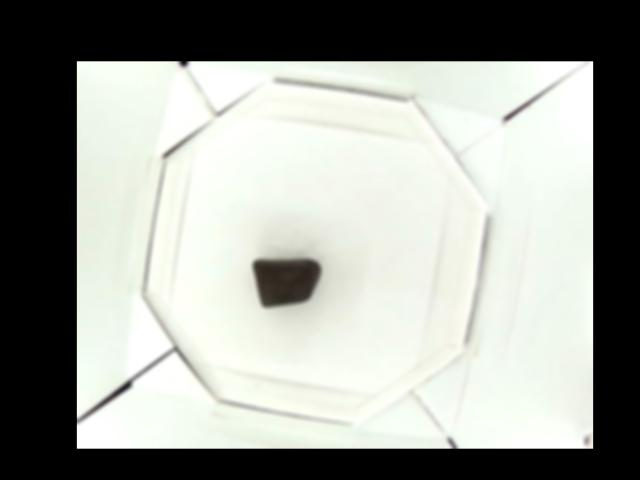Pebble: (251, 259, 326, 308)
